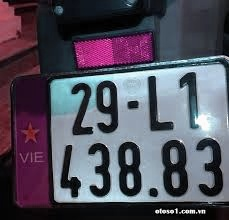Bien-so: (53, 59, 226, 210)
